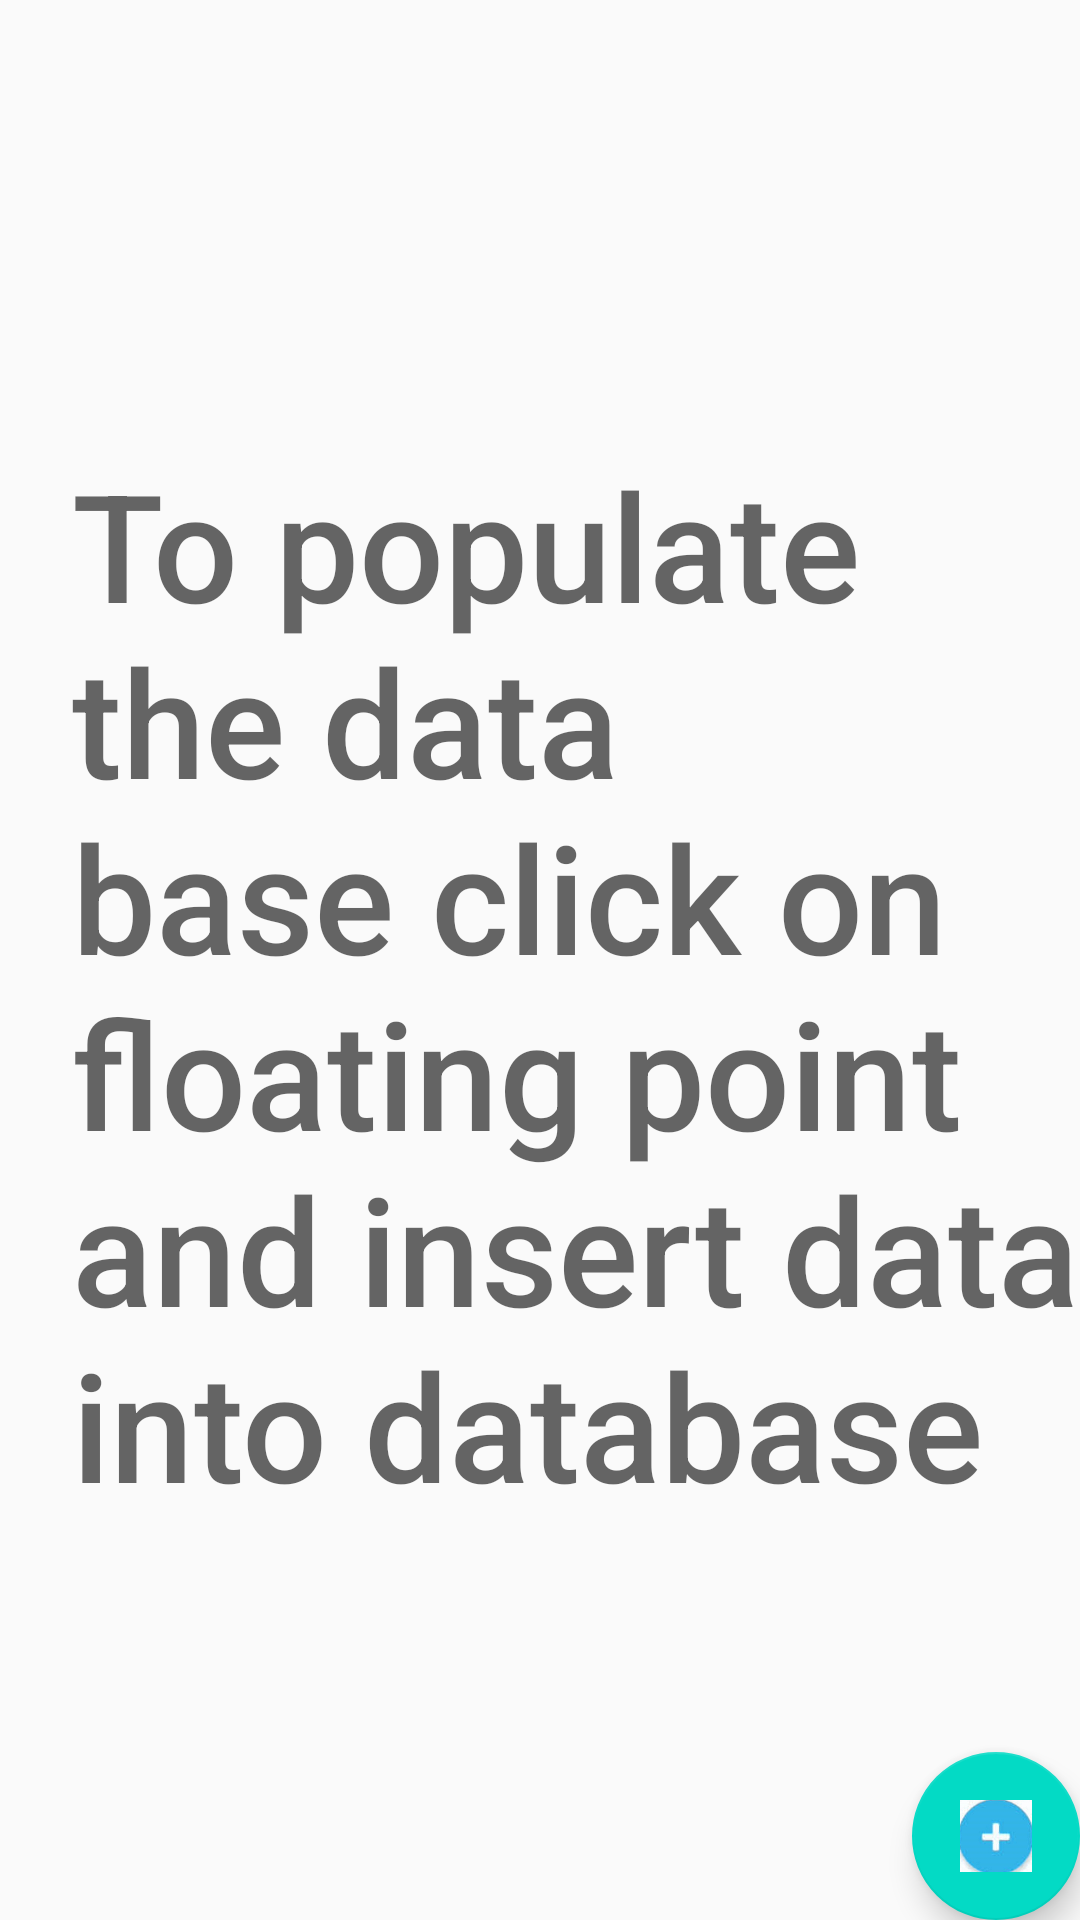

Screen size 1080px×1920px. Icon name, then its center in pixels as (x,y):
addbutton: (996,1836)
